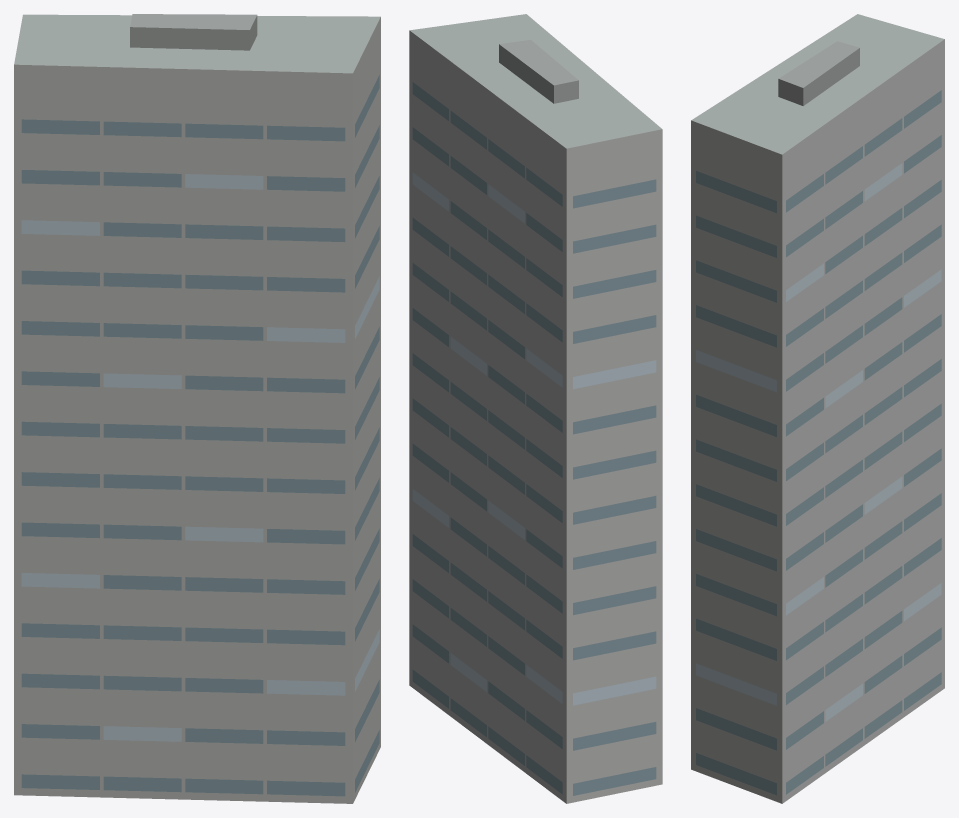
The model's file is fallback-jamsil-ricenz-211.glb.
The picture shows the model from 3 angles, left to right: view 1: azimuth 30°, elevation 25°; view 2: azimuth 150°, elevation 25°; view 3: azimuth 270°, elevation 25°; orthographic projection. The views are drawn at different scales.
Visible parts, largest first — view 1: fallback-jamsil-ricenz-211; view 2: fallback-jamsil-ricenz-211; view 3: fallback-jamsil-ricenz-211.
Part boxes in pixels (bbox=[...]): fallback-jamsil-ricenz-211: bbox=[14, 14, 380, 803]; fallback-jamsil-ricenz-211: bbox=[409, 14, 662, 803]; fallback-jamsil-ricenz-211: bbox=[691, 14, 944, 803].
Size of the model in its own units: 39.79 by 88 by 30.31.
